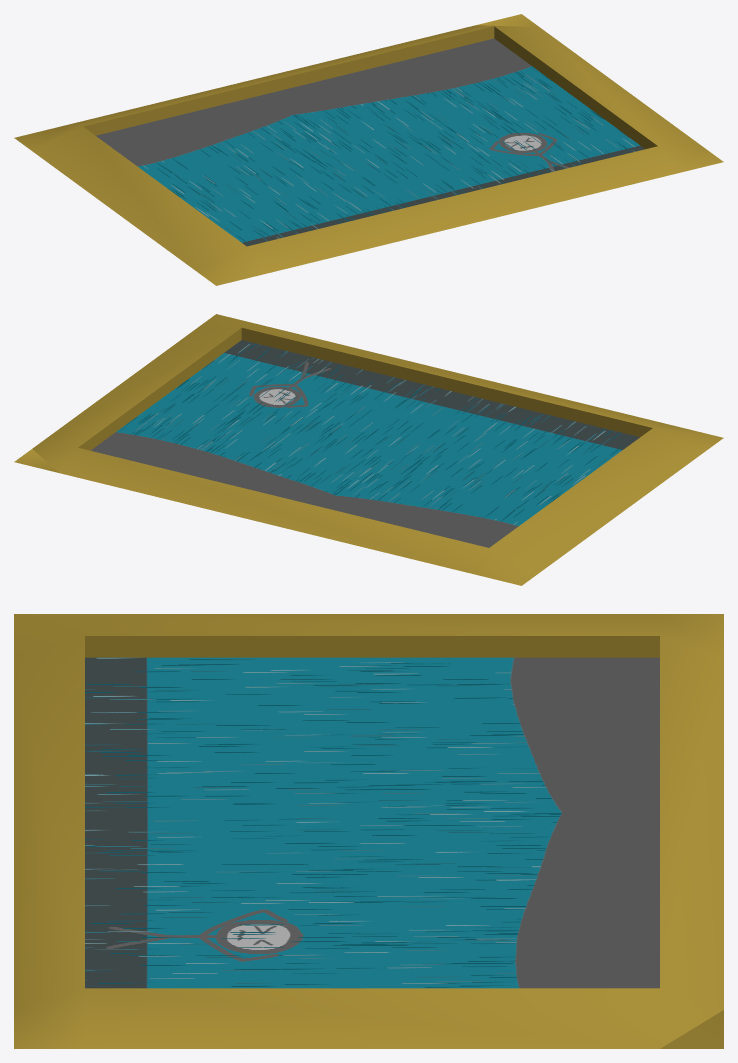
File: SpringPainting.fbx
3 views of the same model, one above another, from view 1: azimuth 30°, elevation 25°; view 2: azimuth 150°, elevation 25°; view 3: azimuth 270°, elevation 25° (orthographic). The views are drawn at different scales.
Visible parts, largest first — view 1: pPlane1, pCube1; view 2: pPlane1, pCube1; view 3: pPlane1, pCube1.
Part boxes in pixels (bbox=[...]): pPlane1: bbox=[96, 38, 644, 246]; pCube1: bbox=[14, 14, 723, 285]; pPlane1: bbox=[91, 340, 639, 547]; pCube1: bbox=[14, 314, 723, 585]; pPlane1: bbox=[85, 657, 659, 988]; pCube1: bbox=[14, 614, 723, 1048].
Bounding box in the file's own units: 9.35 × 0.4312 × 6.45.
Materials: 2 (1 with a texture image).
